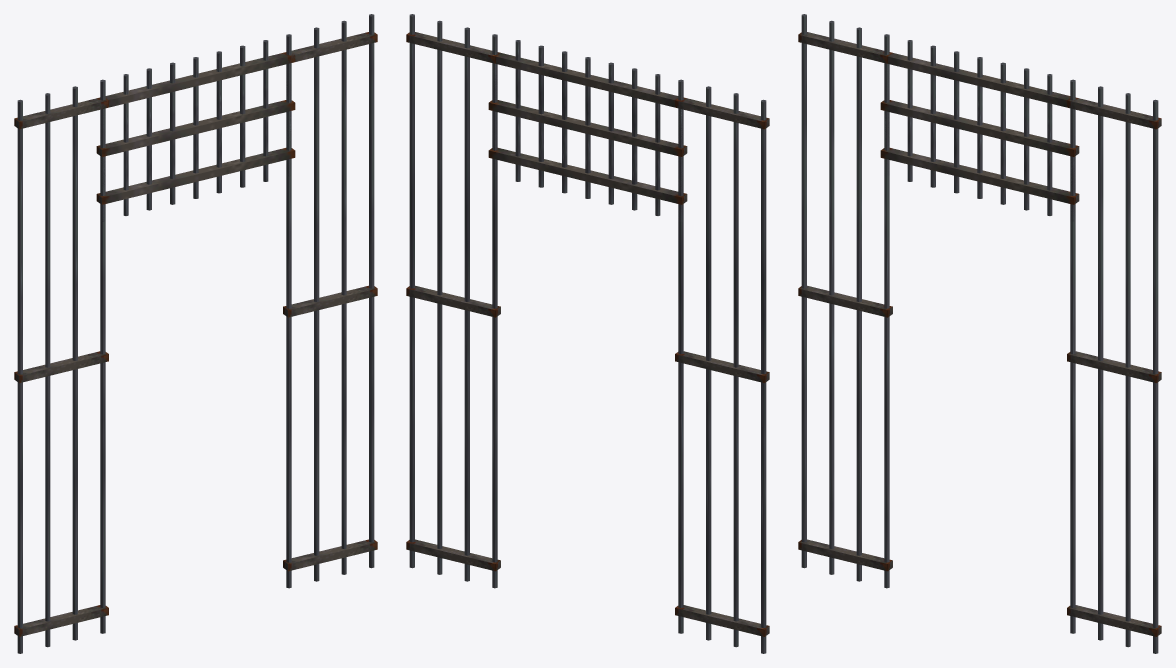
The model's file is wall_bars_door.obj.
3 renders of one model, left to right at view 1: azimuth 30°, elevation 25°; view 2: azimuth 150°, elevation 25°; view 3: azimuth 330°, elevation 25°, orthographic.
Parts seen in each view (by area): view 1: wall_bars_door, wall_bars_door_1, wall_bars_door_2; view 2: wall_bars_door, wall_bars_door_1, wall_bars_door_2; view 3: wall_bars_door_1, wall_bars_door, wall_bars_door_2.
Boxes of the visible parts, x1,y1,x2,y2 form: wall_bars_door: (14, 79, 108, 653); wall_bars_door_1: (283, 14, 377, 588); wall_bars_door_2: (96, 37, 295, 221); wall_bars_door: (675, 79, 769, 653); wall_bars_door_1: (406, 14, 500, 588); wall_bars_door_2: (488, 38, 687, 221); wall_bars_door_1: (1067, 79, 1161, 653); wall_bars_door: (798, 14, 892, 588); wall_bars_door_2: (880, 38, 1079, 221).
Bounding box in the file's own units: 2.04 × 3 × 0.05.
Materials: 1 (1 with a texture image).
